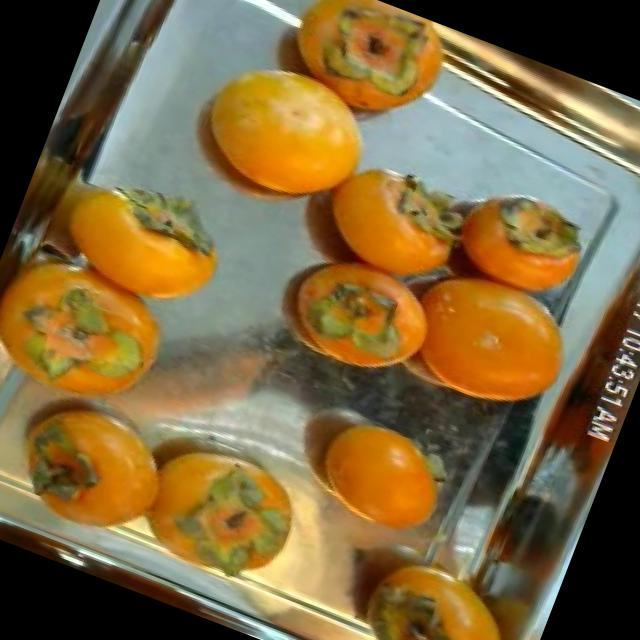Fruit: (156, 26, 407, 248), (360, 232, 602, 442), (278, 383, 487, 568), (427, 162, 608, 324)
